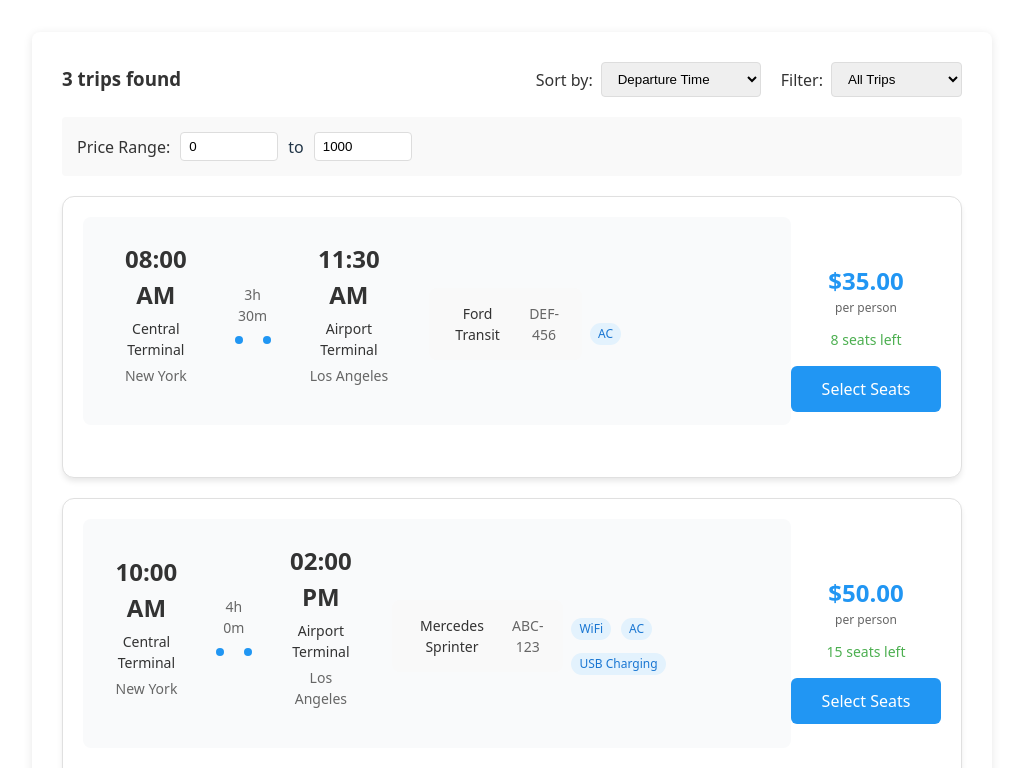
Test: TripResults › filters trips by availability
Select "Available Only" in the dropdown labelled "Filter:" at x=896, y=80, box x1=831 y1=62 x2=962 y2=97
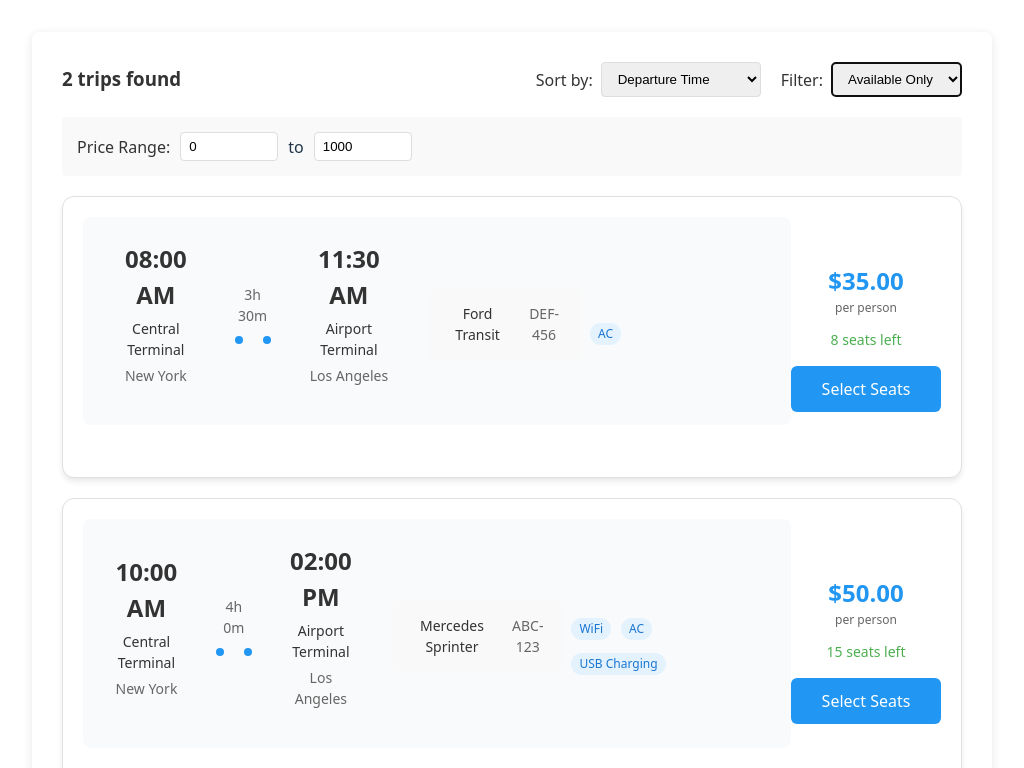
Result: the heading "2 trips found" is shown at x1=62 y1=66 x2=181 y2=94
